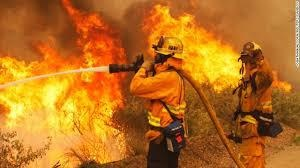fire: (1, 3, 128, 158), (139, 3, 248, 92)
